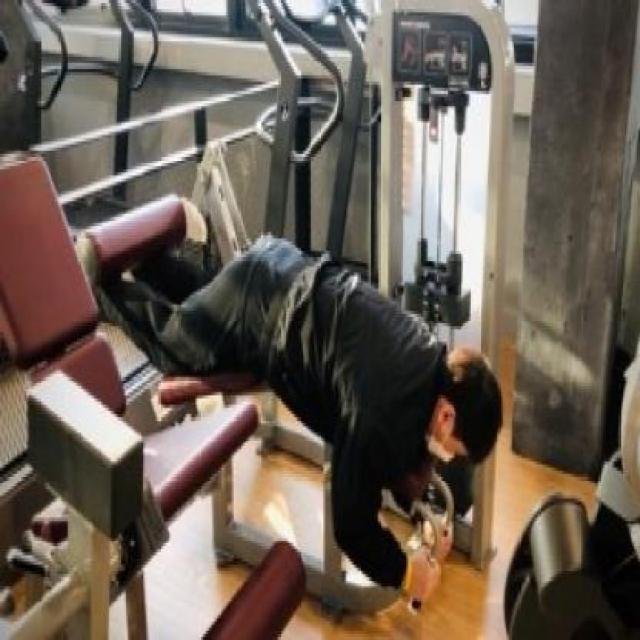reg curl machine: (71, 0, 518, 628)
